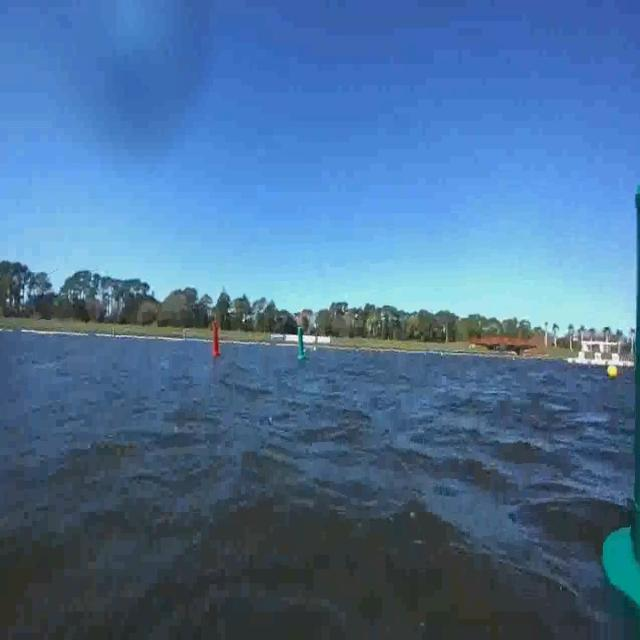green-column-buoy: (604, 192, 640, 624), (295, 326, 307, 362)
red-column-buoy: (212, 322, 222, 358)
